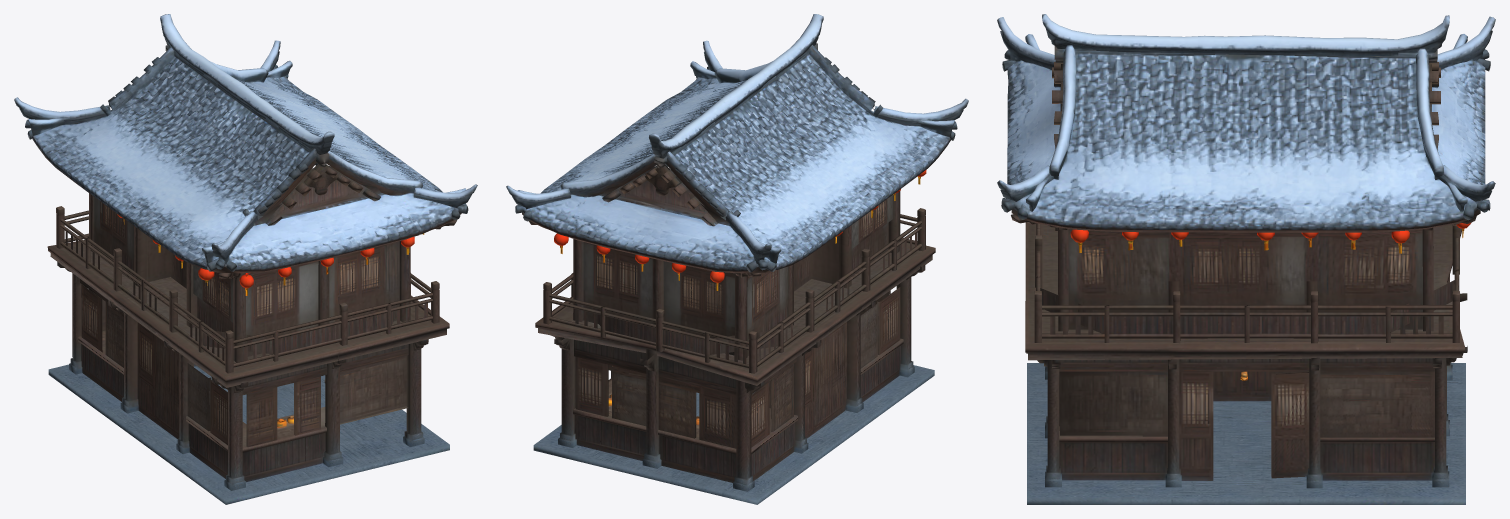
File: snow-shop.glb
3 views of the same model, side by side, from view 1: azimuth 30°, elevation 25°; view 2: azimuth 150°, elevation 25°; view 3: azimuth 270°, elevation 25° (orthographic). The views are drawn at different scales.
Visible parts, largest first — view 1: tripo_0618dd54_a6f5_4e1e_95bc_622c79b2d46a; view 2: tripo_0618dd54_a6f5_4e1e_95bc_622c79b2d46a; view 3: tripo_0618dd54_a6f5_4e1e_95bc_622c79b2d46a.
Part boxes in pixels (box(x1,y1,x2,y2)): tripo_0618dd54_a6f5_4e1e_95bc_622c79b2d46a: box(14, 14, 477, 504); tripo_0618dd54_a6f5_4e1e_95bc_622c79b2d46a: box(506, 14, 968, 504); tripo_0618dd54_a6f5_4e1e_95bc_622c79b2d46a: box(997, 14, 1495, 504).
Bounding box in the file's own units: 0.7622 × 0.9321 × 0.9995.
Materials: 1 (1 with a texture image).
